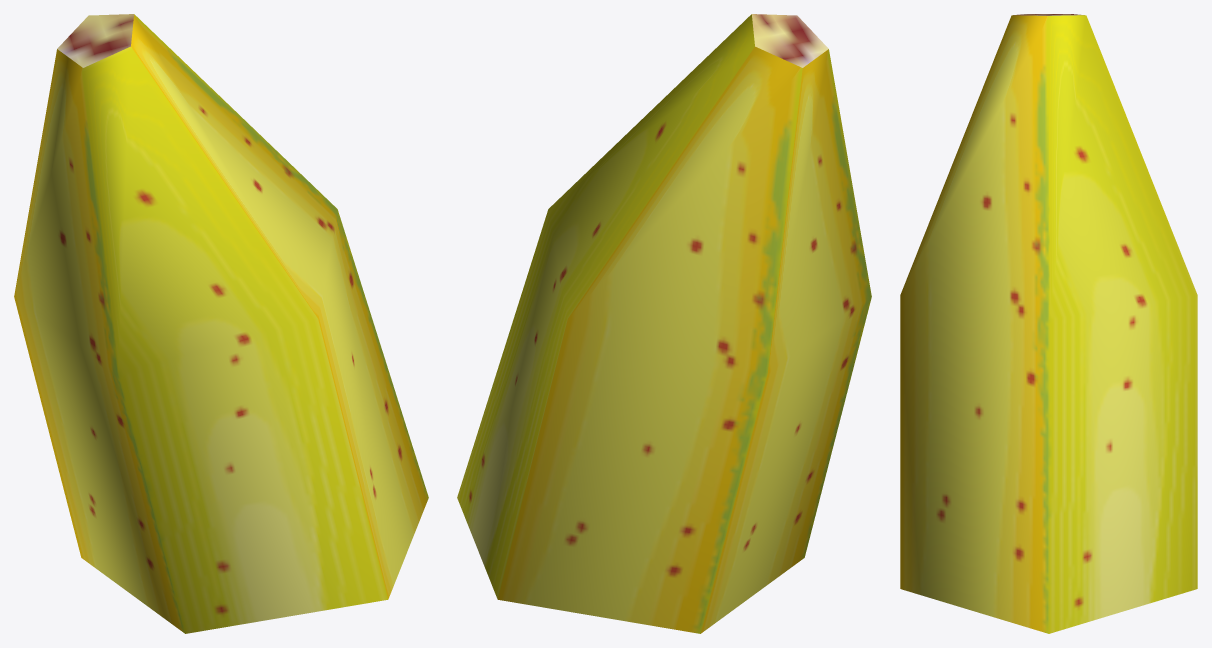
Rendered from bananaS2.FBX.
3 renders of one model, left to right at view 1: azimuth 30°, elevation 25°; view 2: azimuth 150°, elevation 25°; view 3: azimuth 270°, elevation 25°, orthographic. The views are drawn at different scales.
Visible parts, largest first — view 1: Banana Slice; view 2: Banana Slice; view 3: Banana Slice.
Boxes of the visible parts, box(x1,y1,x2,y2) form: Banana Slice: box(14, 14, 428, 633); Banana Slice: box(457, 14, 871, 633); Banana Slice: box(900, 14, 1197, 633).
Bounding box in the file's own units: 7.8 × 11.94 × 6.27.
